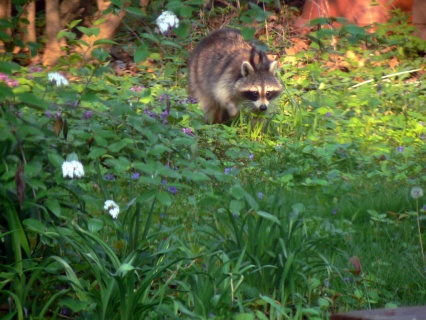Raccoon: (187, 28, 282, 125)
